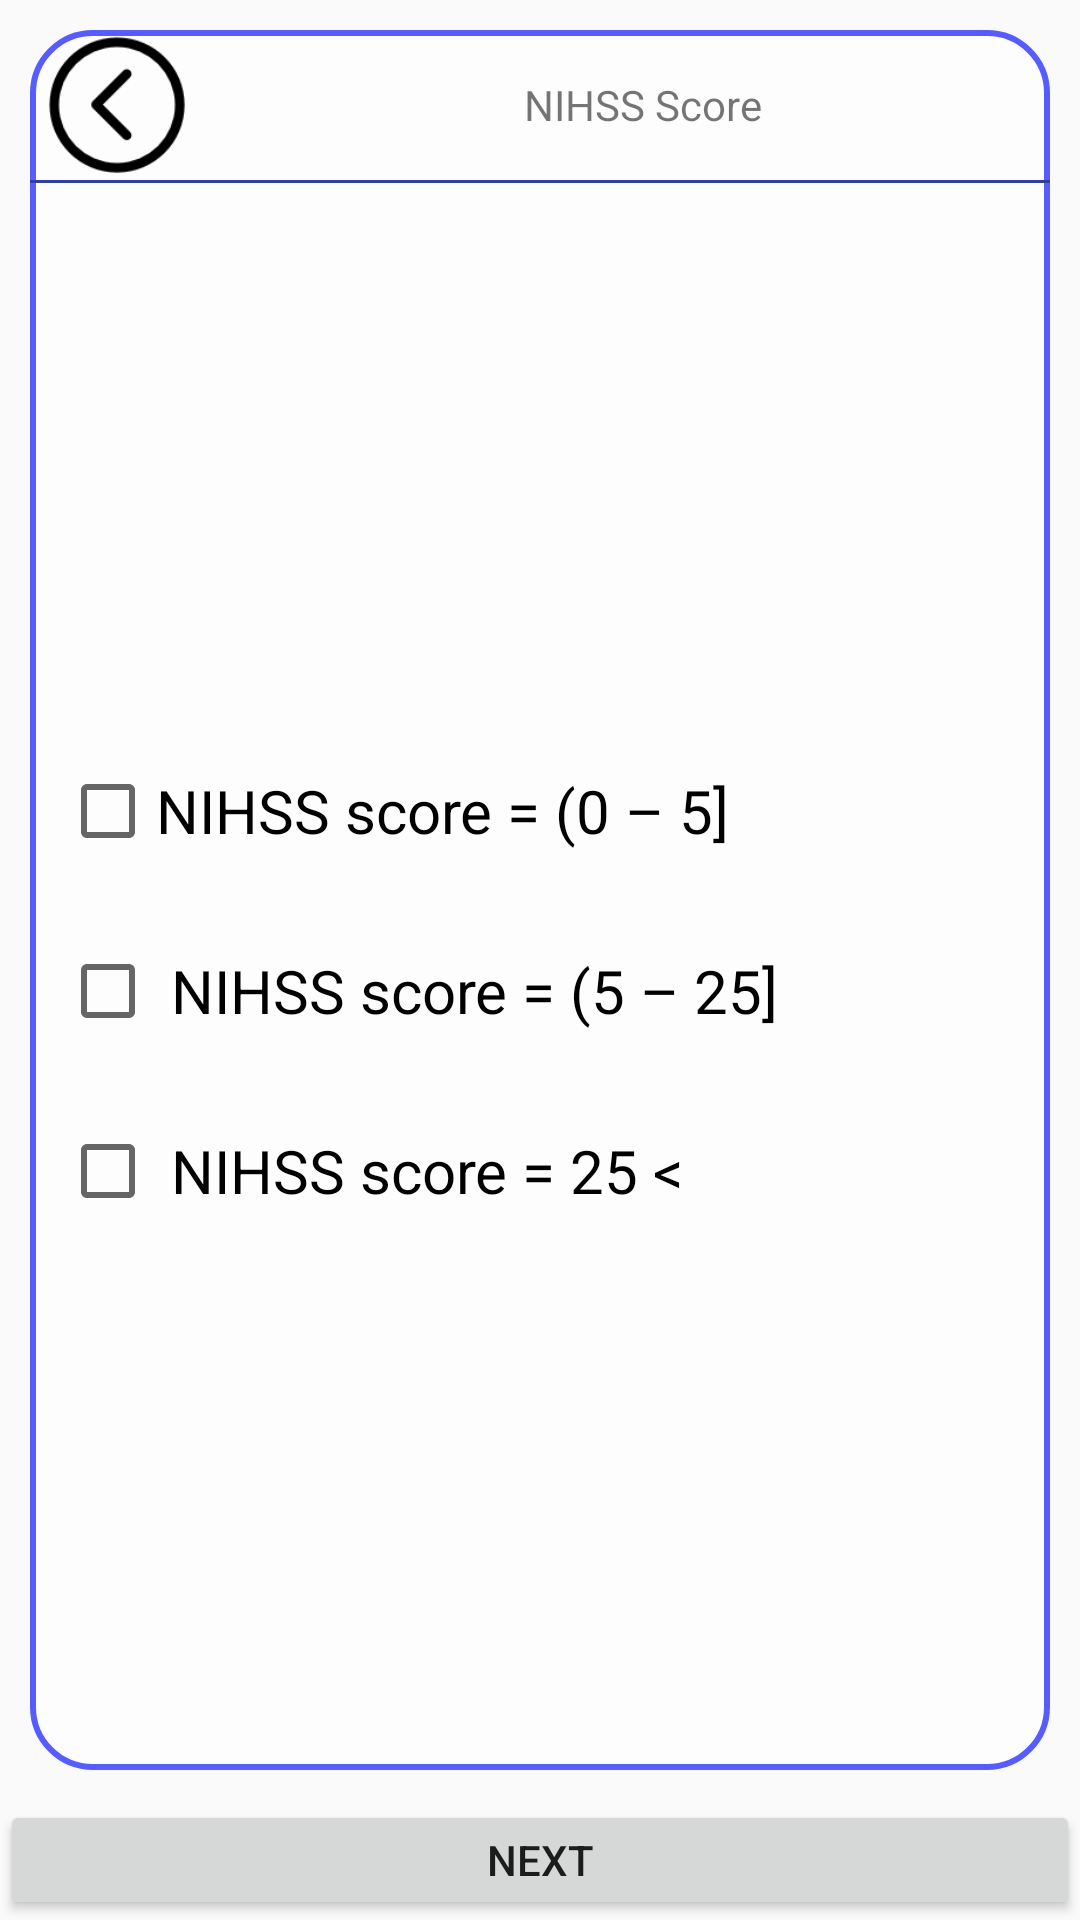

Icon bounding boxes for this 1080 x 1920 phone screenshot, format (x1, y1, x2, y2):
prev: (49, 37, 185, 173)
